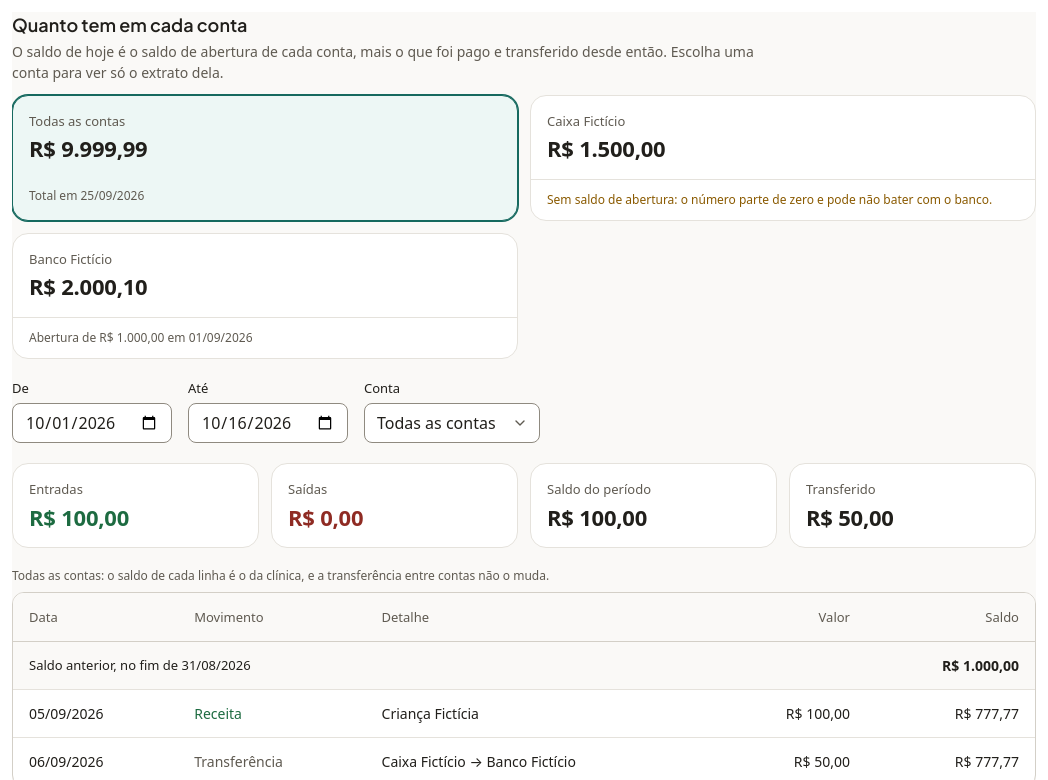
Test: Quanto tem em cada conta — os cartões › deve mostrar no seletor a conta do cartão mesmo para quem não vê o cadastro de contas
Click the button "Banco Fictício R$ 2.000,10" at (71, 259), box left=13, top=234, right=517, bottom=317
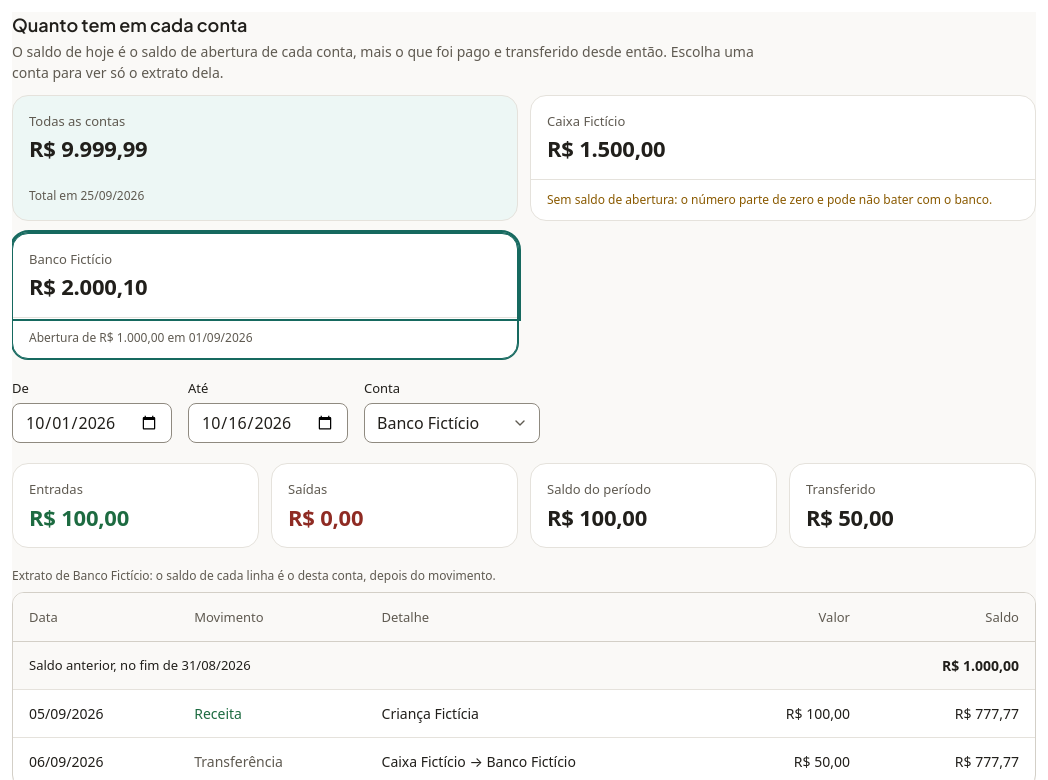
Check: the dropdown labelled "Conta" shows "Banco Fictício", box left=364, top=403, right=540, bottom=443
